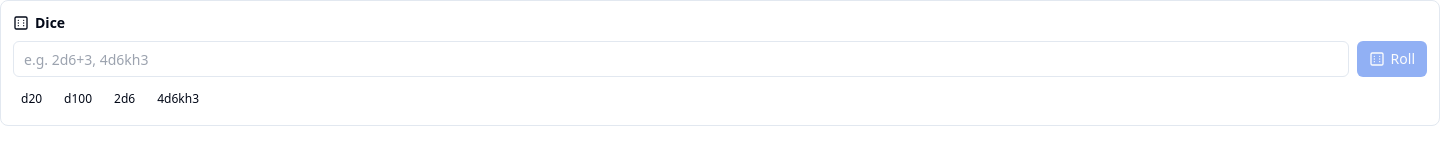
Test: DicePanel › surfaces a parse error instead of rolling
In the field named "Dice expression": (681, 59) [13, 41, 1349, 77], type "garbage"
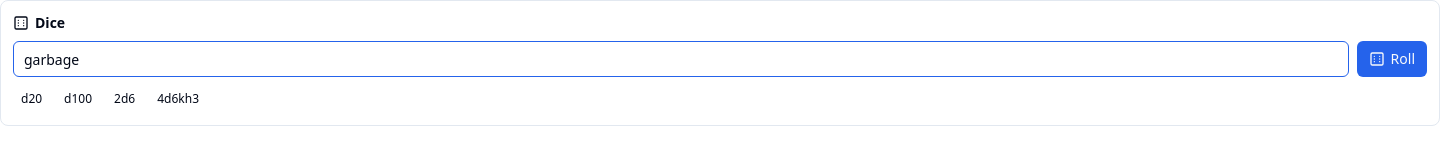
Click the button "Roll": (1392, 59) [1357, 41, 1427, 77]
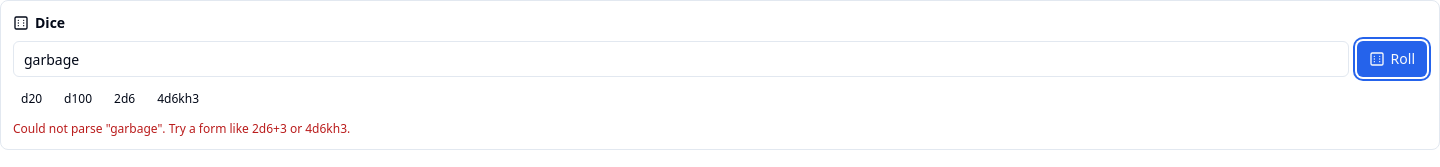
Now the text "Could not parse \"garbage\". Try a form like 2d6+3 or 4d6kh3." is shown, box [13, 120, 350, 137]
